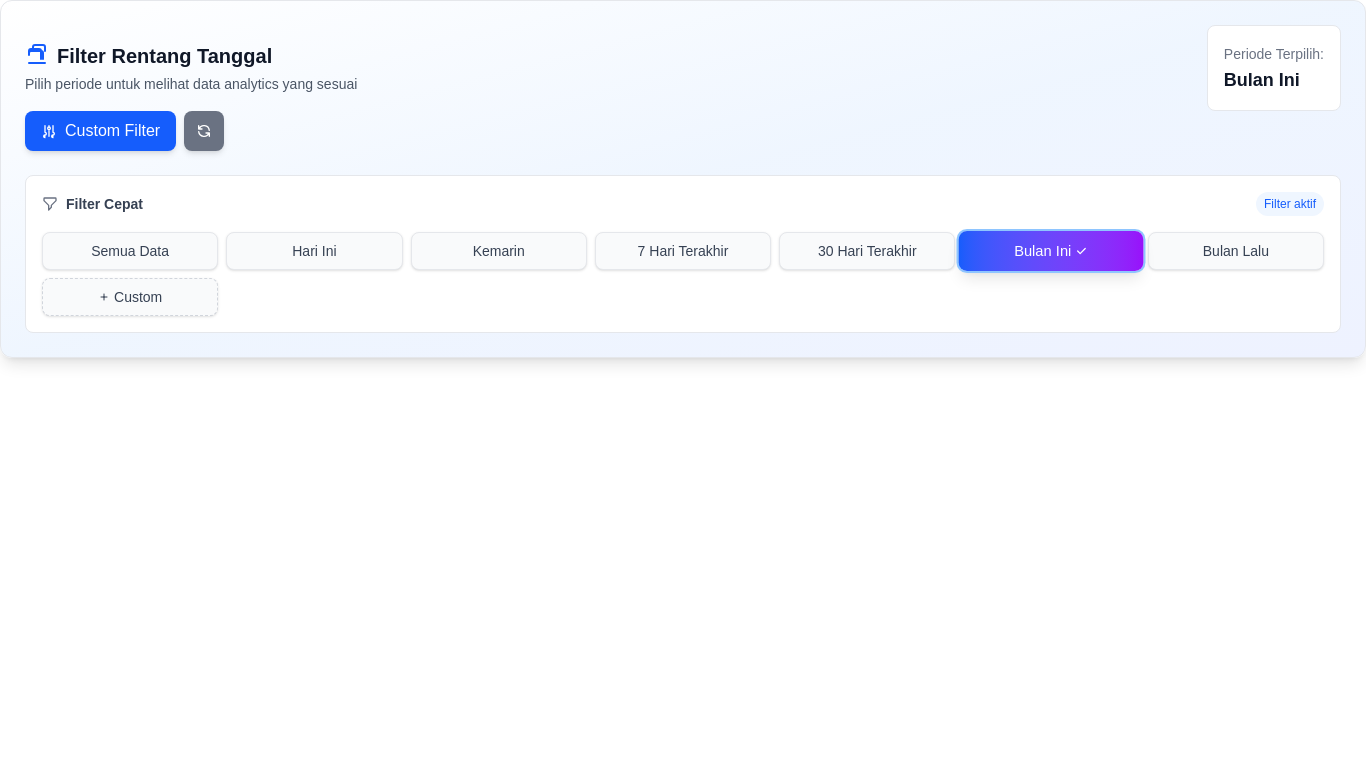
it: DateRangeFilter Component › closes modal when cancel button is clicked
Note: Open modal
Click the button "Custom" at (130, 297), box [42,278,218,316]
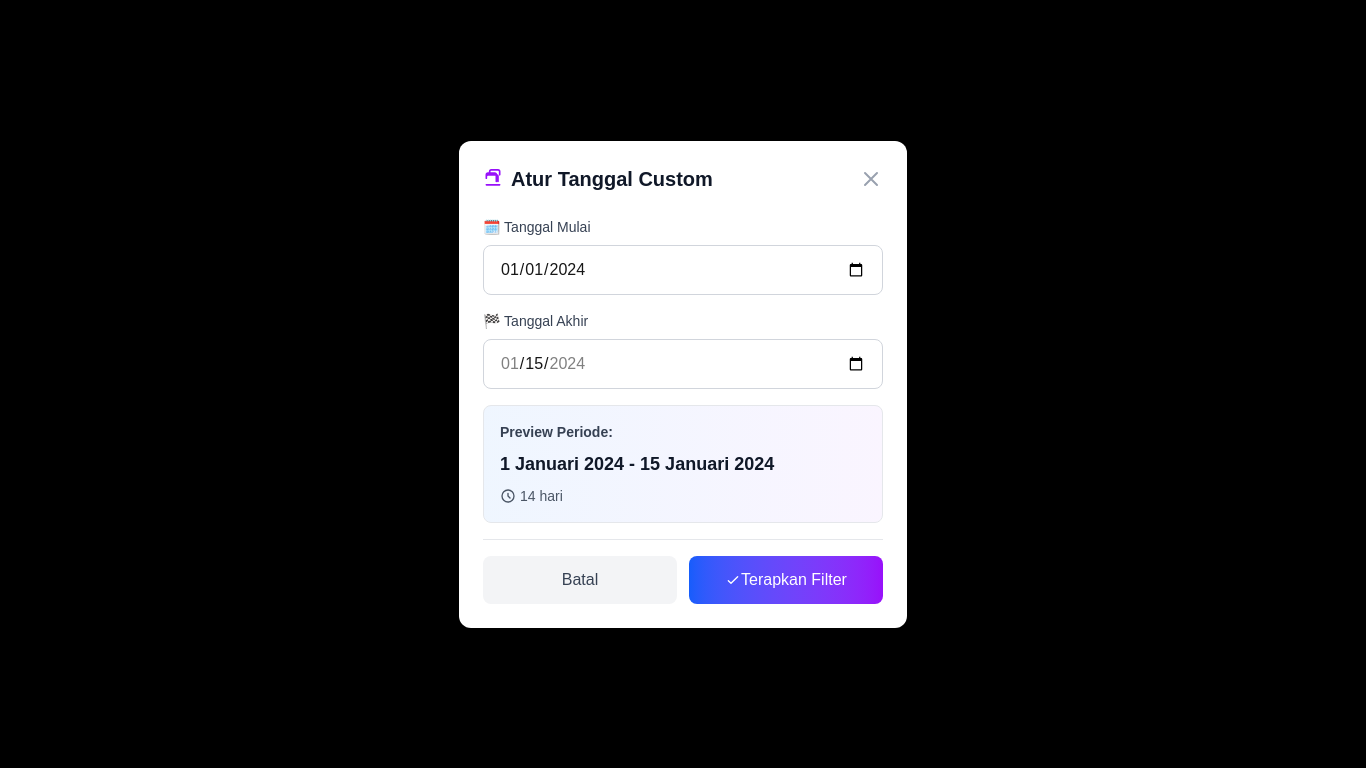
Note: Close modal
Click the button "Batal" at (580, 580), box [483,556,677,604]
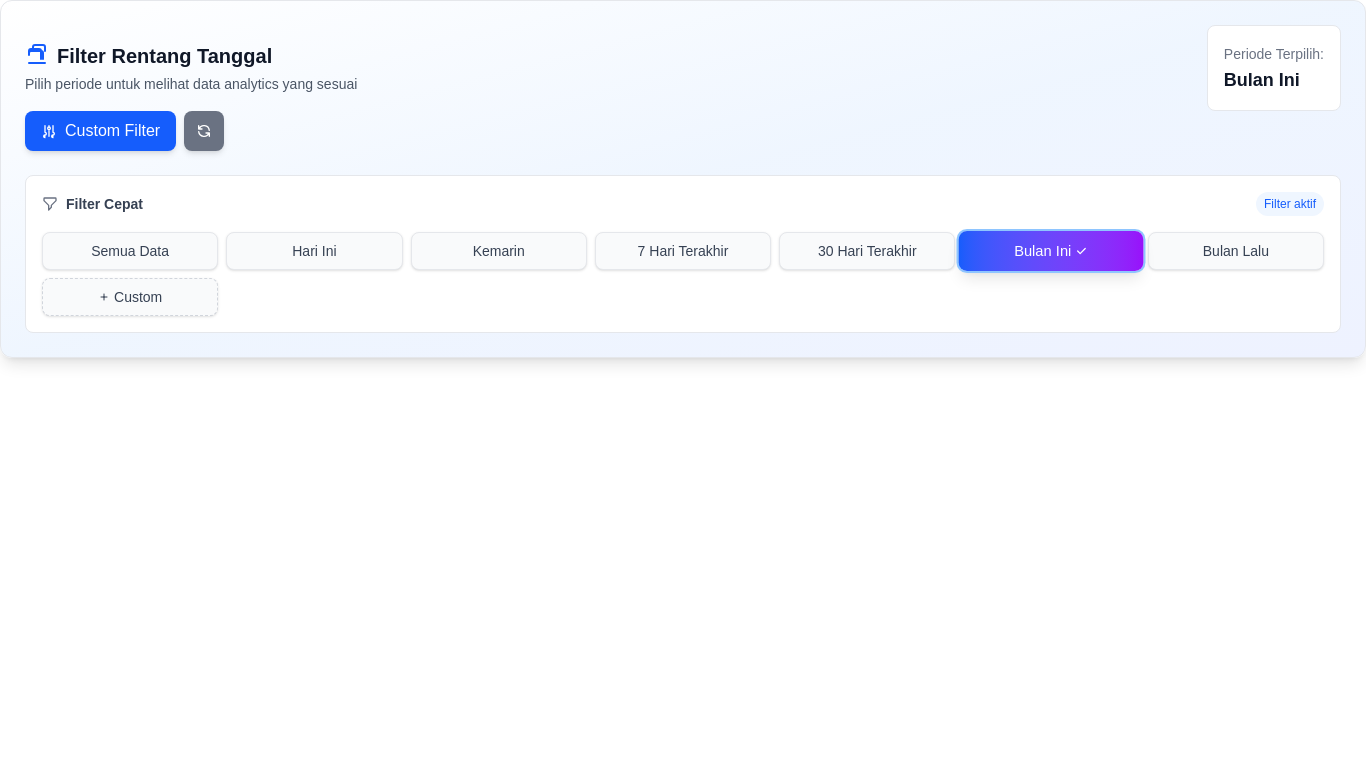
Expected: the text "Atur Tanggal Custom" is gone
